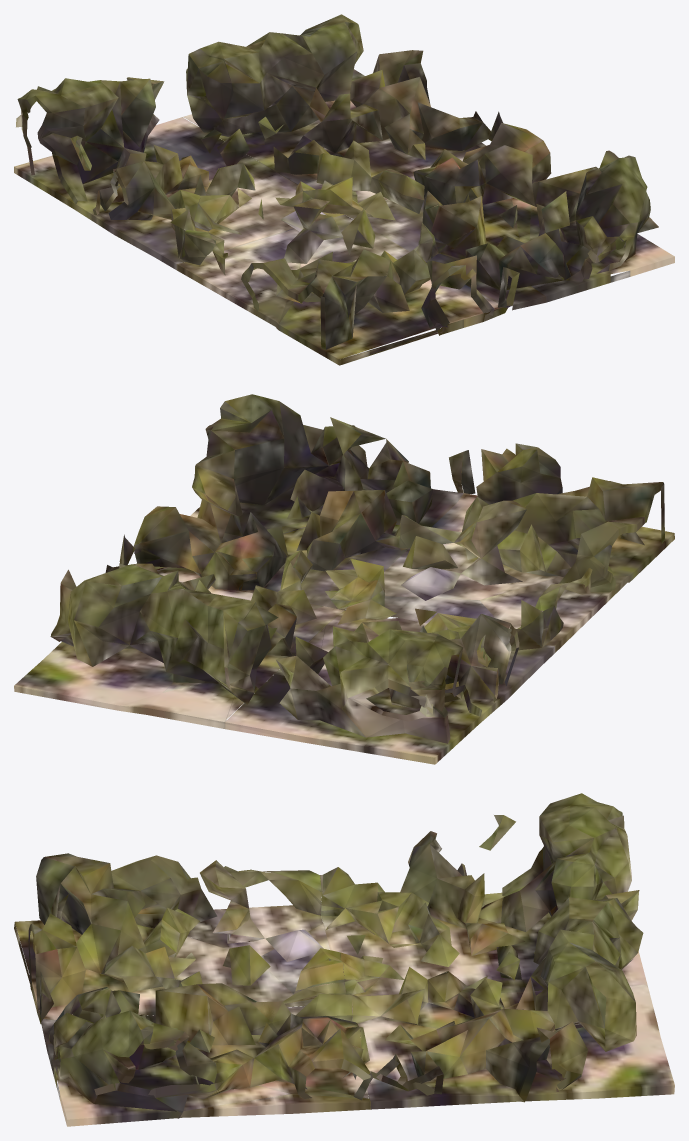
3 views of the same model, one above another, from view 1: azimuth 30°, elevation 25°; view 2: azimuth 150°, elevation 25°; view 3: azimuth 270°, elevation 25° (orthographic). The views are drawn at different scales.
Parts seen in each view (by area): view 1: Mesh_0; view 2: Mesh_0; view 3: Mesh_0.
Part boxes in pixels (left/top/right/bottom): Mesh_0: left=14, top=14, right=674, bottom=365; Mesh_0: left=14, top=394, right=674, bottom=764; Mesh_0: left=14, top=793, right=674, bottom=1126.
Size of the model in its own units: 133 by 31.81 by 165.
Materials: 1 (1 with a texture image).
